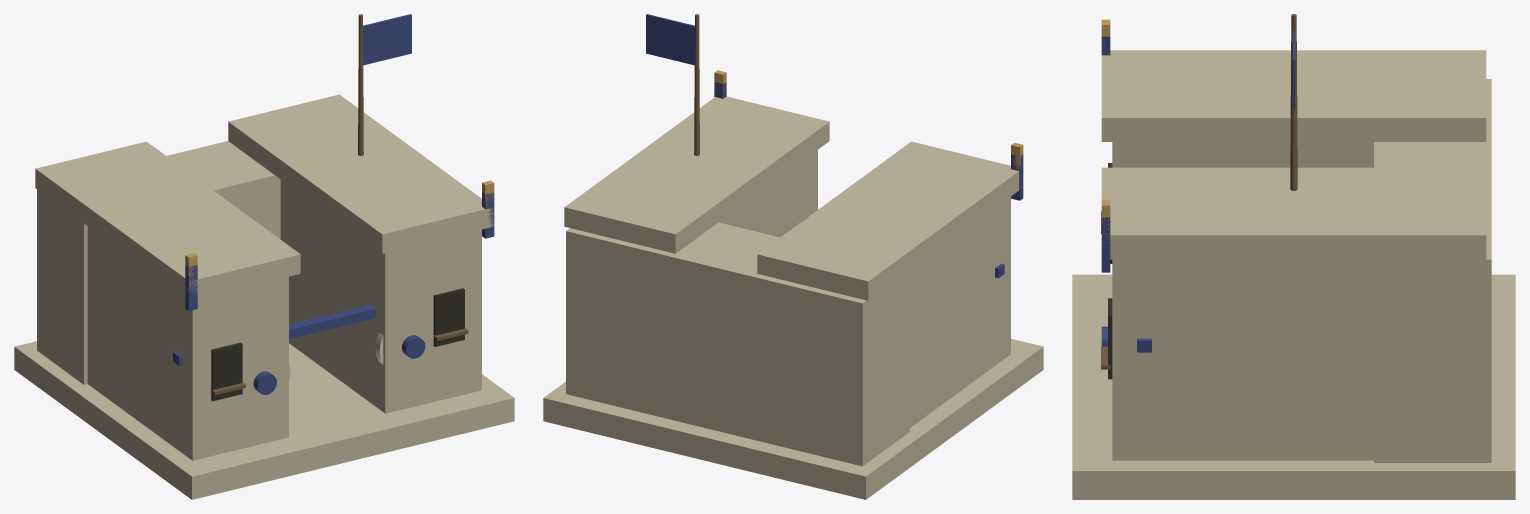
File: b-range-persian.glb
3 renders of one model, left to right at view 1: azimuth 30°, elevation 25°; view 2: azimuth 150°, elevation 25°; view 3: azimuth 270°, elevation 25°, orthographic. The views are drawn at different scales.
Parts seen in each view (by area): view 1: Structure, era1, era3; view 2: Structure; view 3: Structure, era2.
Part boxes in pixels (x1,y1,x2,y2): Structure: [14, 14, 514, 499]; era1: [185, 201, 494, 310]; era3: [185, 180, 494, 291]; Structure: [543, 14, 1043, 499]; Structure: [1072, 14, 1515, 499]; era2: [1101, 36, 1110, 260].
Bounding box in the file's own units: 4.35 × 4.6 × 4.15.
